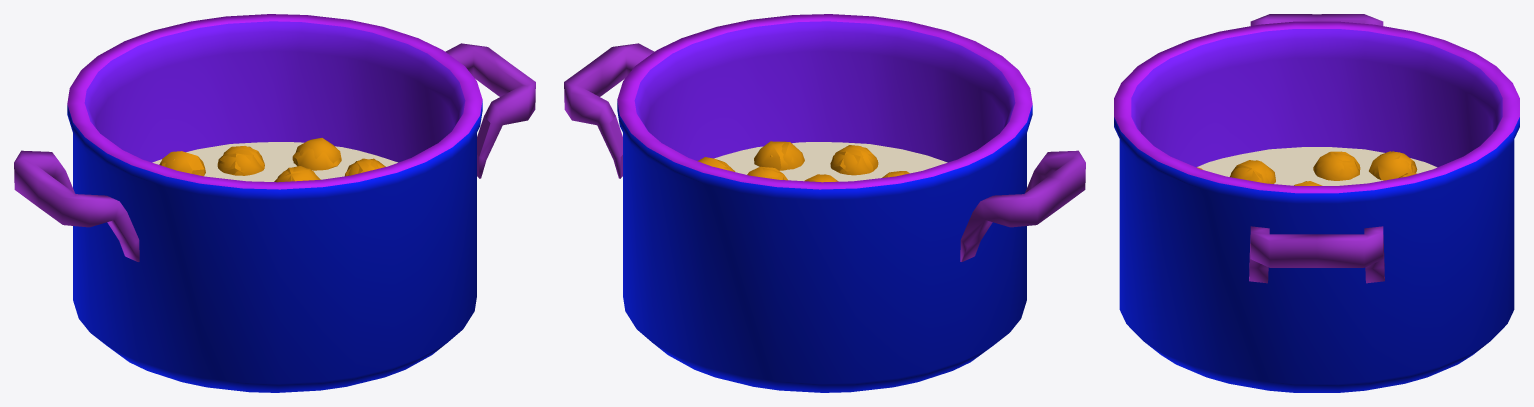
The model's file is bitterballen_pot_uncooked_model.fbx.
3 views of the same model, side by side, from view 1: azimuth 30°, elevation 25°; view 2: azimuth 150°, elevation 25°; view 3: azimuth 270°, elevation 25° (orthographic).
Visible parts, largest first — view 1: BitterballenPotUncookedPot, BitterballenUncookedInPotModel, BitterballenPotUncookedOil; view 2: BitterballenPotUncookedPot, BitterballenPotUncookedOil, BitterballenUncookedInPotModel; view 3: BitterballenPotUncookedPot, BitterballenPotUncookedOil, BitterballenUncookedInPotModel.
Part boxes in pixels (bbox=[...]): BitterballenPotUncookedPot: bbox=[14, 14, 535, 392]; BitterballenUncookedInPotModel: bbox=[159, 138, 385, 182]; BitterballenPotUncookedOil: bbox=[152, 142, 397, 181]; BitterballenPotUncookedPot: bbox=[564, 14, 1085, 392]; BitterballenPotUncookedOil: bbox=[714, 142, 947, 181]; BitterballenUncookedInPotModel: bbox=[697, 141, 909, 182]; BitterballenPotUncookedPot: bbox=[1114, 14, 1519, 392]; BitterballenPotUncookedOil: bbox=[1197, 147, 1437, 185]; BitterballenUncookedInPotModel: bbox=[1196, 151, 1417, 185].
Size of the model in its own units: 62.94 by 83.38 by 35.99.
